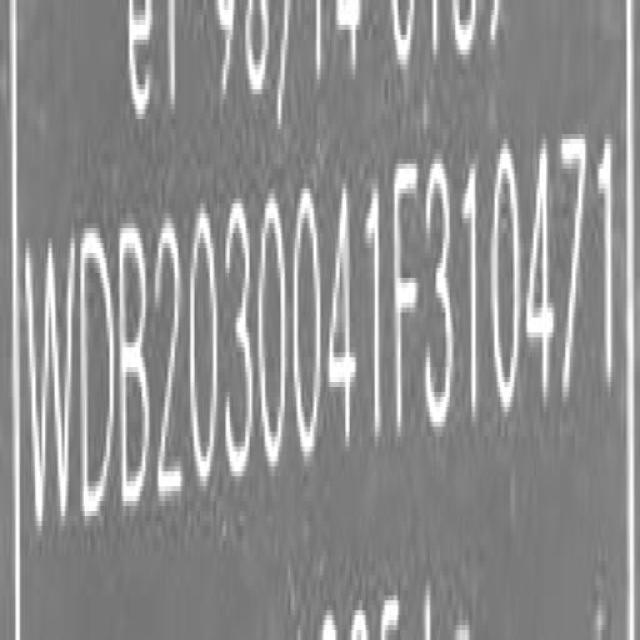0: (190, 204, 222, 501), (257, 189, 289, 477), (492, 140, 523, 427), (294, 181, 323, 471)
1: (364, 166, 384, 461), (599, 126, 619, 410), (464, 157, 482, 443)
2: (154, 212, 185, 510)
3: (425, 160, 456, 448), (225, 202, 254, 491)
4: (326, 174, 358, 466), (525, 136, 557, 425)
7: (560, 124, 590, 416)
B: (118, 216, 153, 519)
D: (80, 228, 117, 530)
F: (389, 158, 419, 448)
W: (28, 235, 74, 545)
